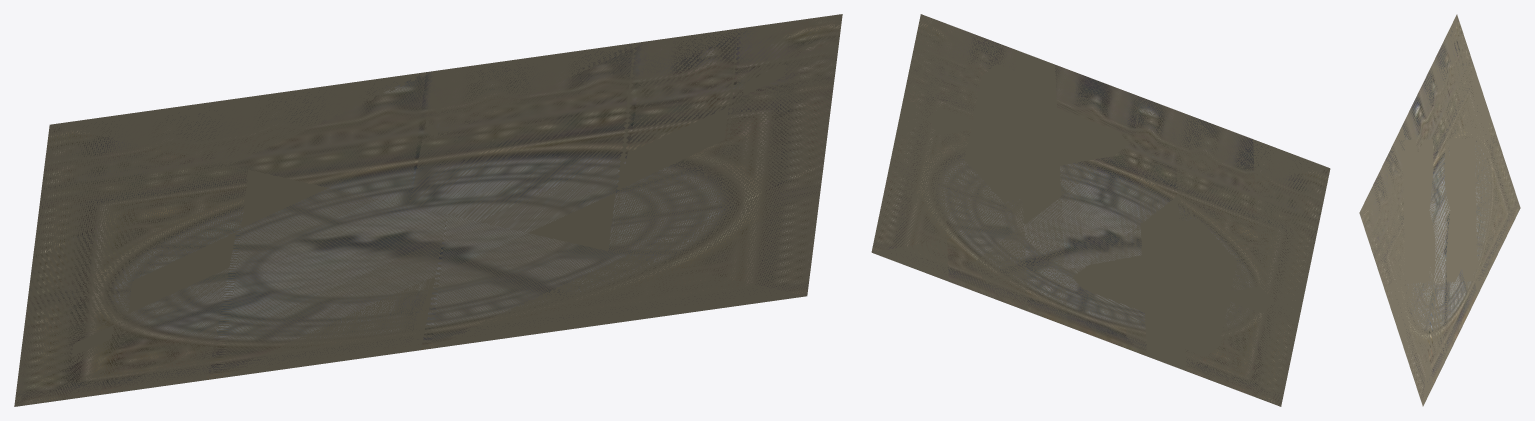
Rendered from 大本钟29.dae.
3 views of the same model, side by side, from view 1: azimuth 30°, elevation 25°; view 2: azimuth 150°, elevation 25°; view 3: azimuth 270°, elevation 25° (orthographic). The views are drawn at different scales.
Parts seen in each view (by area): view 1: SketchUp; view 2: SketchUp; view 3: SketchUp.
Boxes of the visible parts, x1,y1,x2,y2 form: SketchUp: [14, 14, 842, 406]; SketchUp: [871, 14, 1330, 406]; SketchUp: [1359, 14, 1520, 406].
Bounding box in the file's own units: 40.21 × 13.4 × 17.29.
